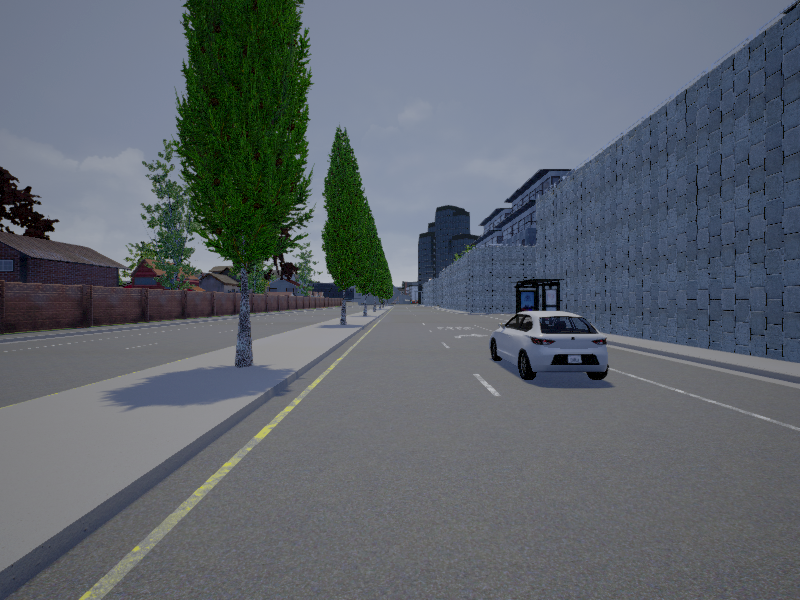Benign: (491, 309, 608, 381)
